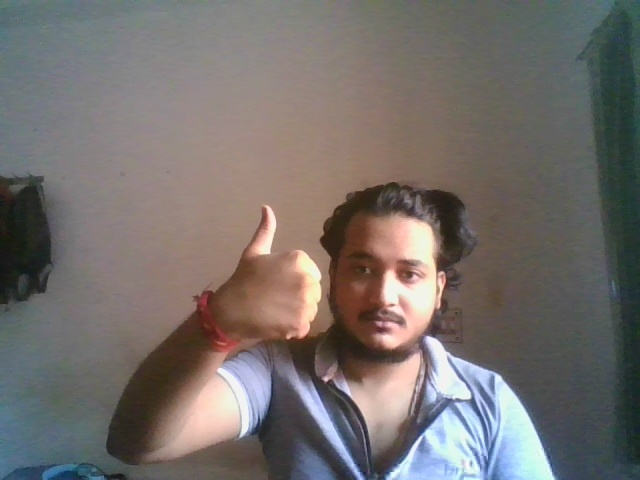ThumbsUp: (235, 203, 321, 343)
